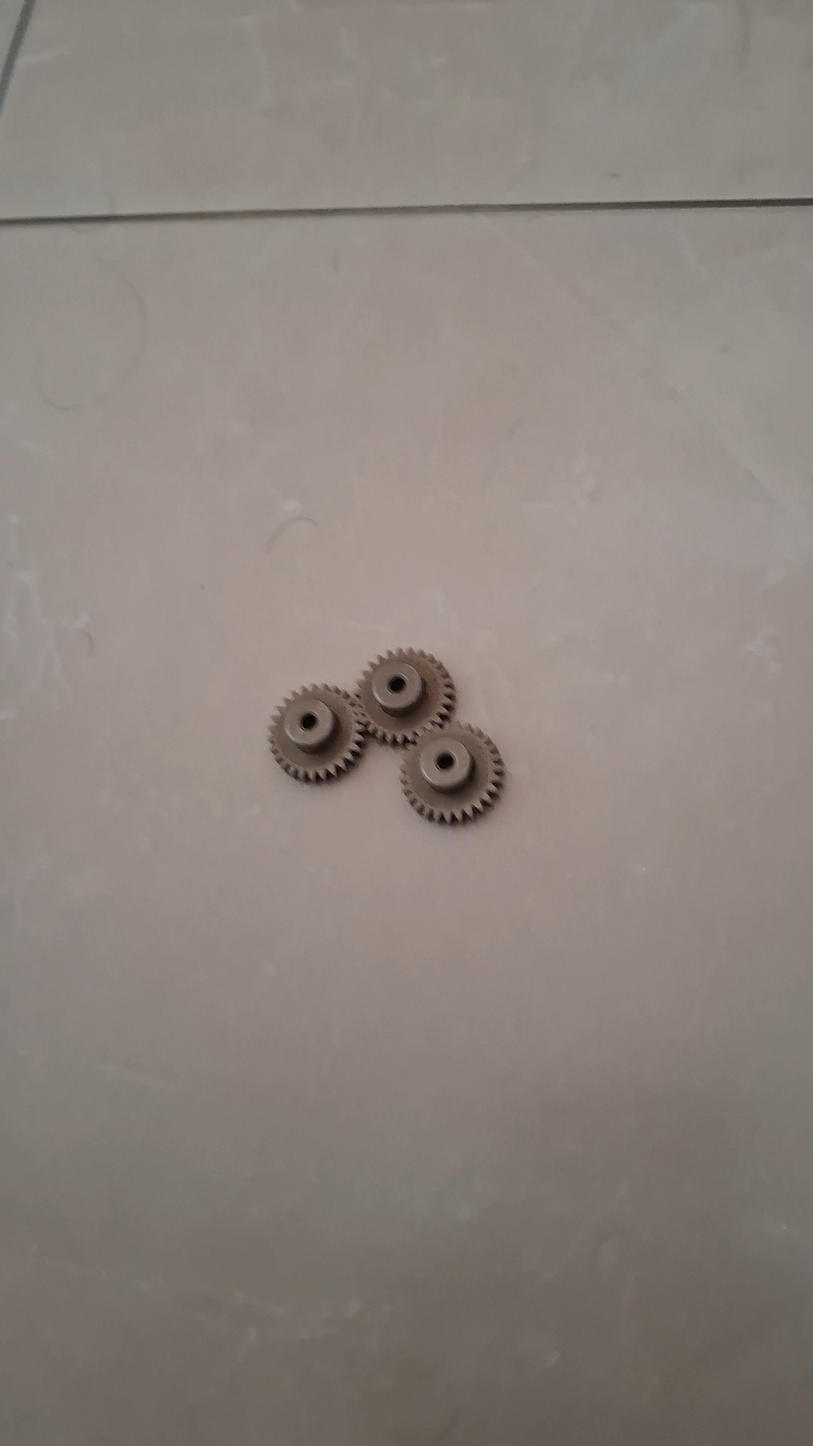spur gear: (400, 724, 505, 823), (268, 685, 366, 781), (357, 650, 454, 745)
